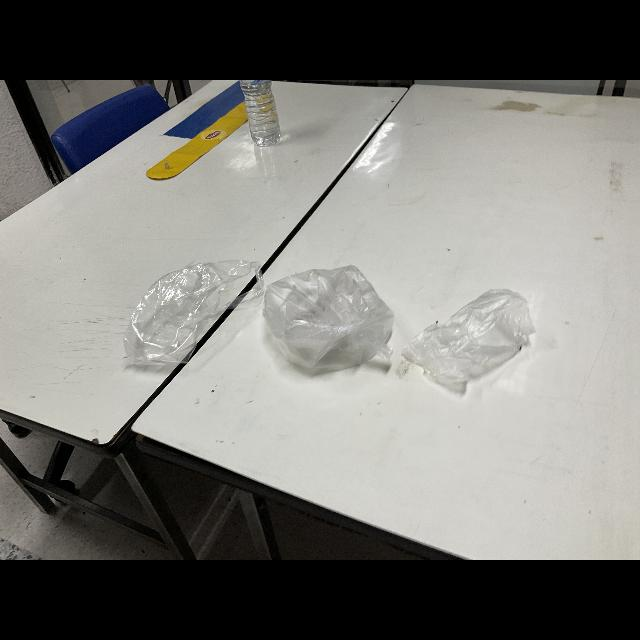plastic_bag: (119, 255, 265, 372), (260, 262, 396, 378), (400, 288, 534, 394)
